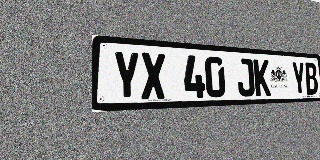0: (204, 56, 225, 98)
4: (183, 55, 206, 98)
B: (304, 62, 319, 95)
J: (236, 58, 255, 97)
K: (253, 59, 271, 96)
X: (140, 52, 166, 100)
Y: (112, 50, 140, 100), (291, 61, 306, 95)
